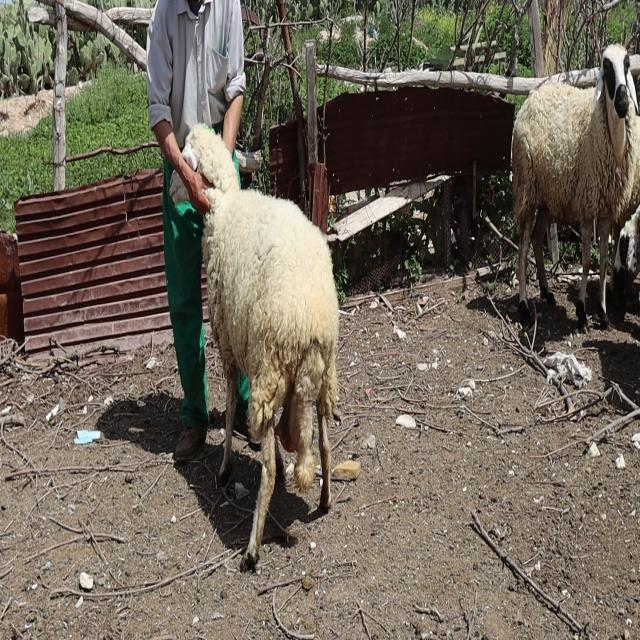Score_3: (182, 123, 338, 568)
